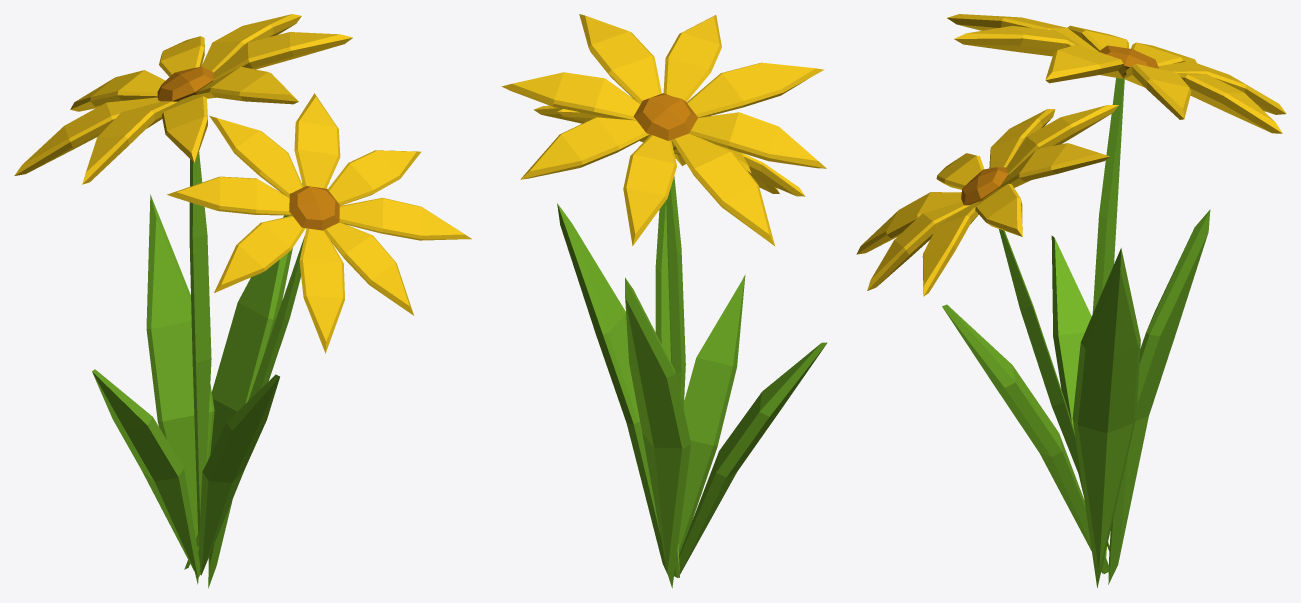
Rendered from SM_Grass_3.fbx.
3 views of the same model, side by side, from view 1: azimuth 30°, elevation 25°; view 2: azimuth 150°, elevation 25°; view 3: azimuth 270°, elevation 25° (orthographic). The views are drawn at different scales.
Parts seen in each view (by area): view 1: SM_Grass_3_LOD0; view 2: SM_Grass_3_LOD0; view 3: SM_Grass_3_LOD0.
Part boxes in pixels (<box>): SM_Grass_3_LOD0: <box>14,14,471,588</box>; SM_Grass_3_LOD0: <box>501,14,827,588</box>; SM_Grass_3_LOD0: <box>856,14,1286,587</box>.
Bounding box in the file's own units: 79.51 × 84.37 × 124.
1 material, 1 textured.
